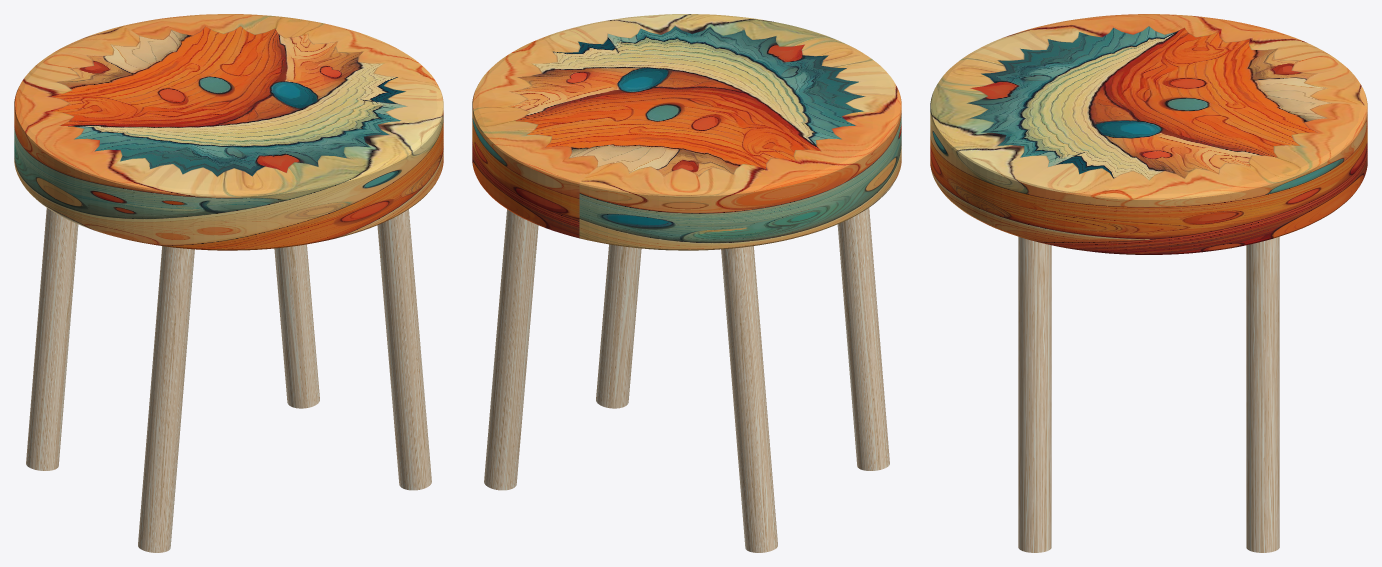
File: tabouret_wood_color.fbx
3 renders of one model, left to right at view 1: azimuth 30°, elevation 25°; view 2: azimuth 150°, elevation 25°; view 3: azimuth 270°, elevation 25°, orthographic.
Parts seen in each view (by area): view 1: assise, pieds; view 2: assise, pieds; view 3: assise, pieds.
Part boxes in pixels (left/top/right/bottom): assise: left=14, top=14, right=443, bottom=250; pieds: left=26, top=208, right=431, bottom=552; assise: left=472, top=14, right=901, bottom=250; pieds: left=484, top=208, right=889, bottom=552; assise: left=930, top=14, right=1367, bottom=254; pieds: left=1018, top=236, right=1279, bottom=552.
Bounding box in the file's own units: 45.47 × 43.78 × 45.47.
Materials: 2 (2 with a texture image).
